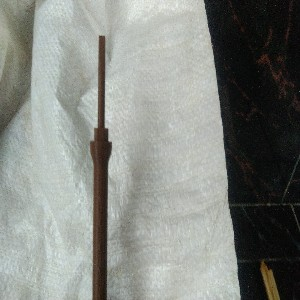obeng: (89, 34, 113, 300)
